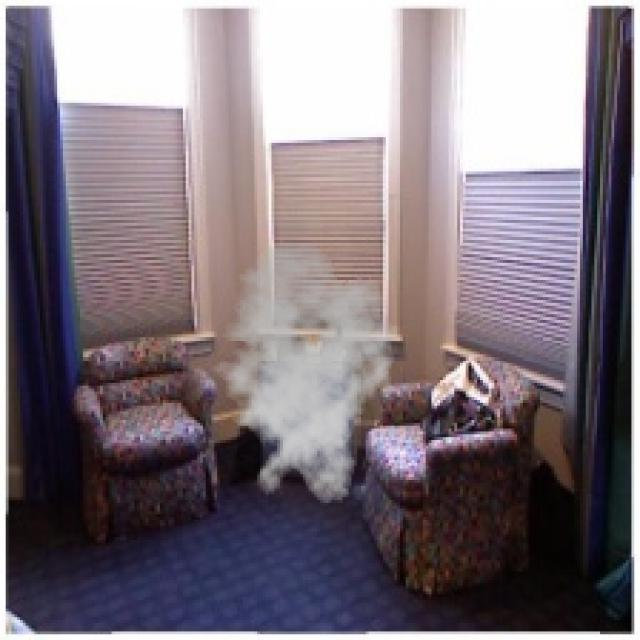smoke: (203, 240, 406, 506)
